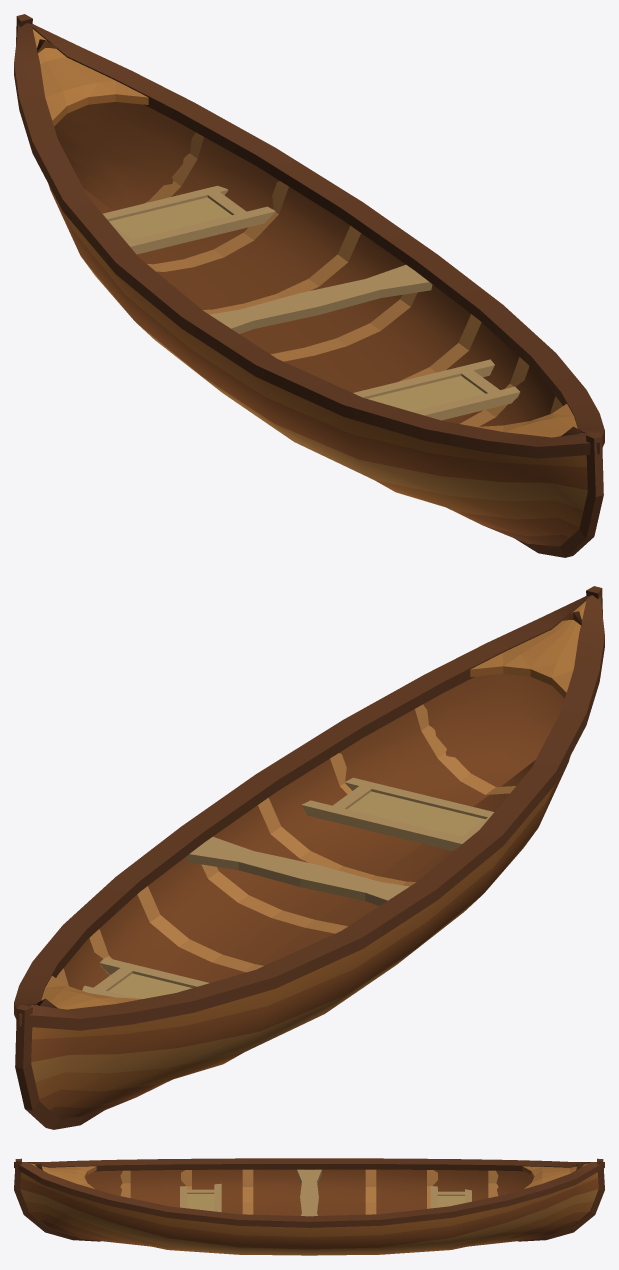
File: CedarCanoePlain.glb
3 views of the same model, one above another, from view 1: azimuth 30°, elevation 25°; view 2: azimuth 150°, elevation 25°; view 3: azimuth 270°, elevation 25° (orthographic). The views are drawn at different scales.
Parts seen in each view (by area): view 1: CedarCanoePlain; view 2: CedarCanoePlain; view 3: CedarCanoePlain.
Boxes of the visible parts, left/top/right/bottom form: CedarCanoePlain: left=14, top=14, right=604, bottom=557; CedarCanoePlain: left=14, top=586, right=604, bottom=1129; CedarCanoePlain: left=14, top=1158, right=604, bottom=1255.
Bounding box in the file's own units: 3.18 × 1.96 × 12.5.
